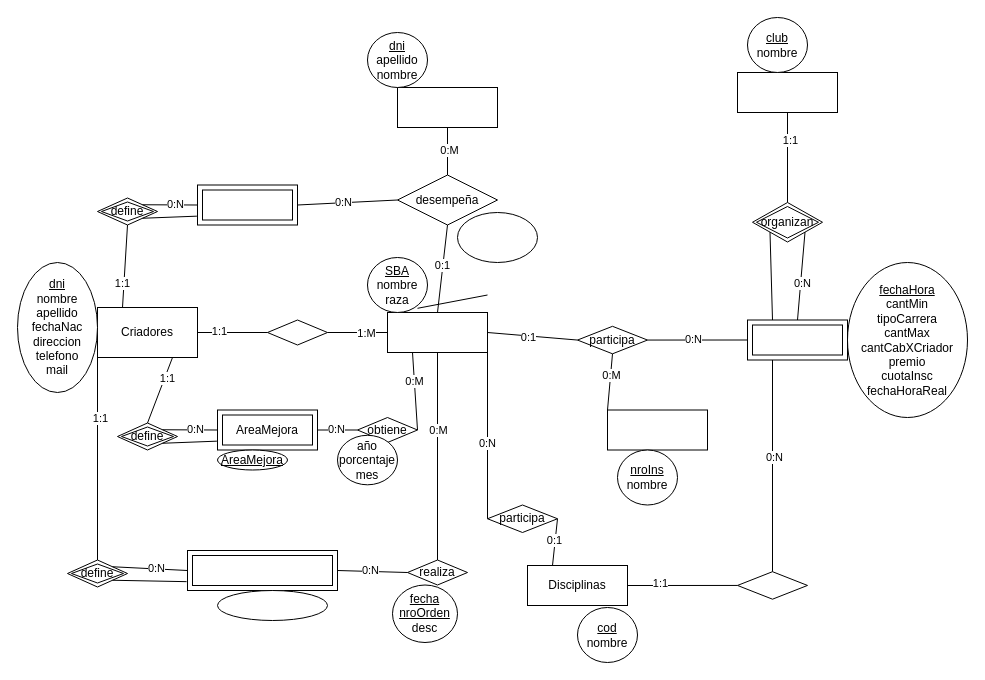
Image size: 985x680. Some labels were removed from this diagram. The shapes that lost their labels are listed below. From the top down, each one's centre as x and y in pixels, then its label:
point 447,107: Encargados
point 787,92: ClubesHipico
point 247,204: Funciones
point 497,237: fechaCont fechaDesp
point 297,332: posee
point 437,332: Caballos
point 797,339: Competencias
point 657,429: Jinetes
point 262,570: TiposEntrenamientos
point 772,585: es_de
point 272,605: TipoEntrenamiento
